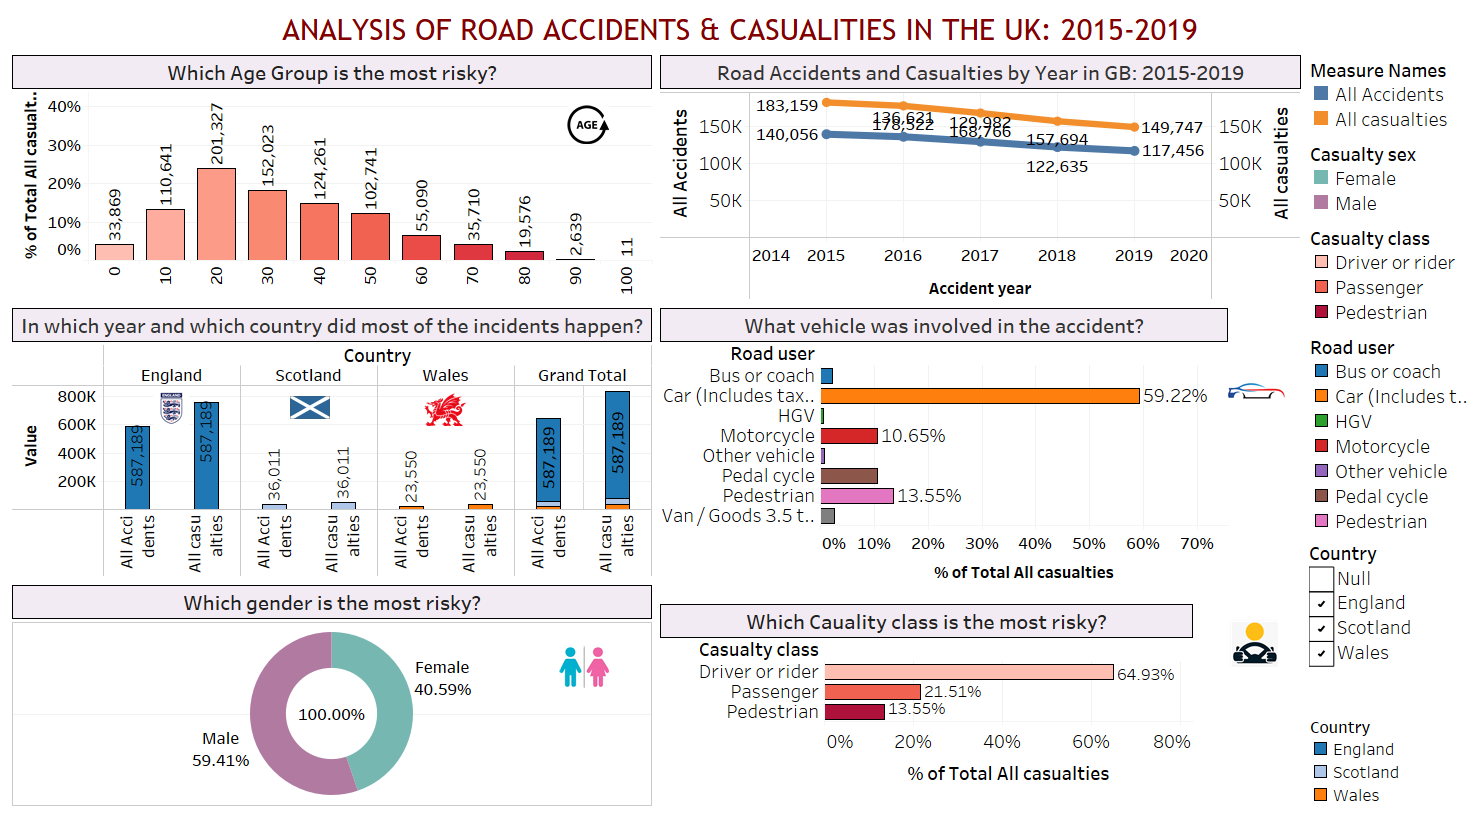

This screenshot's page, from the dashboard's own definition file:
{"tool":"tableau","page":{"name":"Dashboard-1","canvas":[1000,1000],"units":"permille","ordinal":0},"visuals":[{"type":"worksheet","box":[0,0,1000,1000]},{"type":"worksheet","param":"vert","box":[5,9.8,990,980.4]},{"type":"worksheet","box":[5,9.8,990,52.6]},{"type":"worksheet","param":"horz","box":[5,62.4,990,927.9]},{"type":"worksheet","box":[5,62.4,885.9,927.9]},{"type":"worksheet","title":"Age","mark":"Automatic","rows":["All_casualties"],"cols":["Casualty age (bin) 2"],"box":[5,62.4,442.9,309.2]},{"type":"worksheet","title":"Year","mark":"Automatic","rows":["All_Accidents","All_casualties"],"cols":["Accident_year"],"box":[447.9,62.4,443,308.9]},{"type":"worksheet","param":"vert","box":[890.9,62.4,104.1,927.9]},{"type":"worksheet","title":"Year","mark":"Automatic","rows":["All_Accidents","All_casualties"],"cols":["Accident_year"],"param":"[federated.0g1ezj31vrk7b11boffyq1j0l24m].[:Measure Names]","box":[890.9,62.4,104.1,102.7]},{"type":"worksheet","param":"Image/Age.png","box":[383.1,128.4,29.1,47.7]},{"type":"worksheet","title":"Gender","mark":"Pie","rows":["All_casualties","All_casualties"],"param":"[federated.0vlvbqs1shhn8g12ybbgz1p7i3uw].[none:Casualty_sex:nk]","box":[890.9,165,104.1,102.7]},{"type":"worksheet","title":"Casualty Class","mark":"Automatic","rows":["Casualty_class"],"param":"[federated.0vlvbqs1shhn8g12ybbgz1p7i3uw].[none:Casualty_class:nk]","box":[890.9,267.7,104.1,133.2]},{"type":"worksheet","title":"Road Users","mark":"Automatic","rows":["Road_user"],"box":[447.9,371.2,443,362.1]},{"type":"worksheet","title":"Road Accident Related Deaths in GB","mark":"Automatic","cols":["Country"],"box":[5,371.6,442.9,338.6]},{"type":"worksheet","title":"Road Users","mark":"Automatic","rows":["Road_user"],"param":"[federated.0vlvbqs1shhn8g12ybbgz1p7i3uw].[none:Road_user:nk]","box":[890.9,401,104.1,253.1]},{"type":"worksheet","param":"Image/Car.png","box":[820.3,436.4,56.8,95.4]},{"type":"worksheet","param":"Image/England.png","box":[103.4,476.8,41.2,44]},{"type":"worksheet","param":"Image/wales.png","box":[286.5,480.4,28.4,53.8]},{"type":"worksheet","param":"Image/Scotland.svg","box":[196,484.1,27,34.2]},{"type":"worksheet","title":"Road Accident Related Deaths in GB","mark":"Automatic","cols":["Country"],"param":"[federated.0vlvbqs1shhn8g12ybbgz1p7i3uw].[none:Country:nk]","box":[890.9,654,104.1,213.9]},{"type":"worksheet","title":"Gender","mark":"Pie","rows":["All_casualties","All_casualties"],"box":[5,710.2,442.9,280]},{"type":"worksheet","title":"Casualty Class","mark":"Automatic","rows":["Casualty_class"],"box":[447.9,733.4,443,256.9]},{"type":"worksheet","param":"Image/Driver.png","box":[831.1,758,37.8,58.7]},{"type":"worksheet","param":"Image/gender.jpg","box":[377.7,789.7,33.8,61.1]},{"type":"worksheet","title":"Road Accident Related Deaths in GB","mark":"Automatic","cols":["Country"],"param":"[federated.0g1ezj31vrk7b11boffyq1j0l24m].[none:Country:nk]","box":[890.9,868,104.1,122.2]}]}

Visuals, with their boxes on the dashboard's canvas, which has no fixed pixel size, in thousandths of its width and height (x1, y1, x2, y2). These are canvas units, not pixel positions in the 1480x818 screenshot, which may show the page scaled, cropped or inside an application window:
worksheet: (0,0,1000,1000)
worksheet: (5,10,995,990)
worksheet: (5,10,995,62)
worksheet: (5,62,995,990)
worksheet: (5,62,891,990)
"Age" worksheet: (5,62,448,372)
"Year" worksheet: (448,62,891,371)
worksheet: (891,62,995,990)
"Year" worksheet: (891,62,995,165)
worksheet: (383,128,412,176)
"Gender" worksheet (Pie marks): (891,165,995,268)
"Casualty Class" worksheet: (891,268,995,401)
"Road Users" worksheet: (448,371,891,733)
"Road Accident Related Deaths in GB" worksheet: (5,372,448,710)
"Road Users" worksheet: (891,401,995,654)
worksheet: (820,436,877,532)
worksheet: (103,477,145,521)
worksheet: (286,480,315,534)
worksheet: (196,484,223,518)
"Road Accident Related Deaths in GB" worksheet: (891,654,995,868)
"Gender" worksheet (Pie marks): (5,710,448,990)
"Casualty Class" worksheet: (448,733,891,990)
worksheet: (831,758,869,817)
worksheet: (378,790,412,851)
"Road Accident Related Deaths in GB" worksheet: (891,868,995,990)
